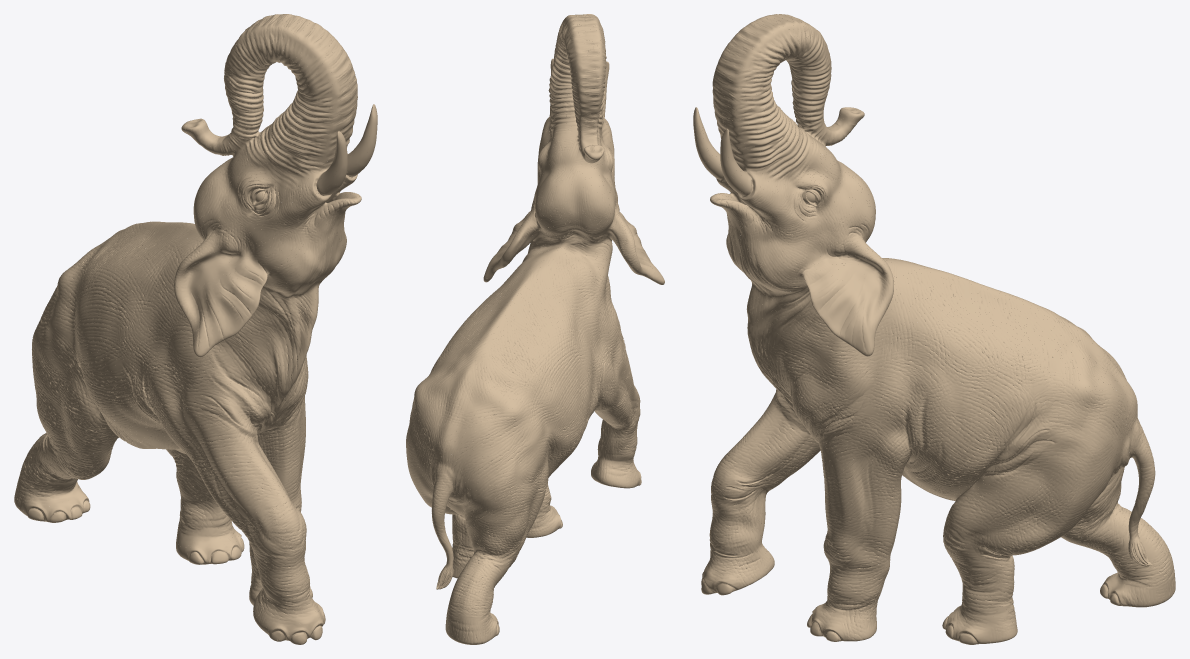
The model's file is 动物_0328_std.glb.
3 views of the same model, side by side, from view 1: azimuth 30°, elevation 25°; view 2: azimuth 150°, elevation 25°; view 3: azimuth 270°, elevation 25° (orthographic). The views are drawn at different scales.
Parts seen in each view (by area): view 1: material_0, material_0_2, material_0_4, material_0_10, material_0_6, material_0_12, material_0_8, material_0_14, material_0_15, material_0_1, material_0_3, material_0_13 (+4 smaller); view 2: material_0_8, material_0, material_0_6, material_0_10, material_0_4, material_0_12, material_0_2, material_0_14, material_0_15, material_0_9, material_0_13, material_0_11 (+4 smaller); view 3: material_0_6, material_0, material_0_4, material_0_10, material_0_8, material_0_2, material_0_12, material_0_14, material_0_15, material_0_7, material_0_11, material_0_9 (+4 smaller).
Boxes of the visible parts, left/top/right/bottom form: material_0: left=39, top=14, right=361, bottom=471; material_0_2: left=33, top=16, right=356, bottom=602; material_0_4: left=14, top=14, right=377, bottom=644; material_0_10: left=17, top=14, right=371, bottom=640; material_0_6: left=19, top=17, right=361, bottom=626; material_0_12: left=18, top=18, right=355, bottom=637; material_0_8: left=20, top=65, right=357, bottom=644; material_0_14: left=14, top=15, right=371, bottom=640; material_0_15: left=14, top=18, right=367, bottom=638; material_0_1: left=54, top=34, right=360, bottom=456; material_0_3: left=36, top=76, right=354, bottom=599; material_0_13: left=21, top=22, right=360, bottom=636; material_0_8: left=412, top=48, right=641, bottom=644; material_0: left=406, top=14, right=664, bottom=544; material_0_6: left=413, top=32, right=664, bottom=636; material_0_10: left=408, top=14, right=663, bottom=641; material_0_4: left=418, top=14, right=662, bottom=644; material_0_12: left=408, top=15, right=664, bottom=641; material_0_2: left=409, top=27, right=642, bottom=575; material_0_14: left=408, top=16, right=662, bottom=644; material_0_15: left=407, top=20, right=656, bottom=638; material_0_9: left=414, top=51, right=639, bottom=644; material_0_13: left=412, top=16, right=659, bottom=643; material_0_11: left=409, top=15, right=659, bottom=637; material_0_6: left=693, top=16, right=1167, bottom=644; material_0: left=693, top=14, right=1148, bottom=543; material_0_4: left=701, top=15, right=1175, bottom=640; material_0_10: left=698, top=14, right=1172, bottom=644; material_0_8: left=701, top=46, right=1175, bottom=632; material_0_2: left=711, top=21, right=1139, bottom=640; material_0_12: left=695, top=18, right=1175, bottom=643; material_0_14: left=693, top=18, right=1174, bottom=641; material_0_15: left=694, top=22, right=1174, bottom=641; material_0_7: left=696, top=17, right=1166, bottom=644; material_0_11: left=699, top=15, right=1171, bottom=642; material_0_9: left=706, top=46, right=1157, bottom=628.
Bounding box in the file's own units: 0.1463 × 0.5 × 0.3638.
